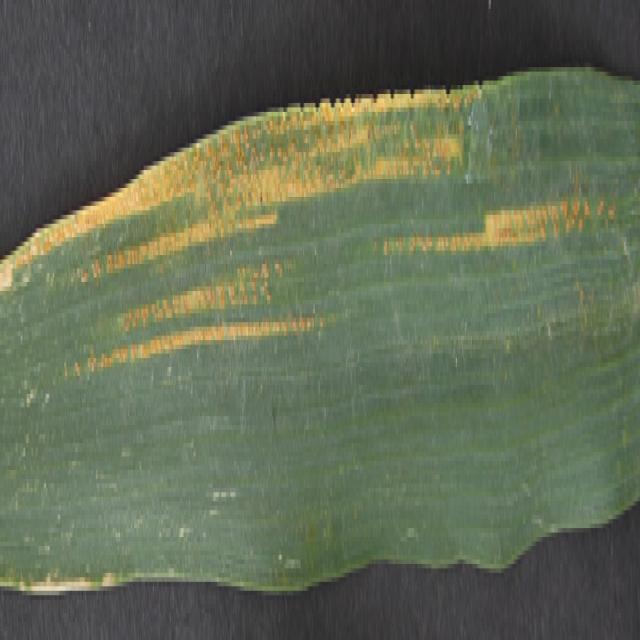leaf rust: (1, 80, 614, 466)
